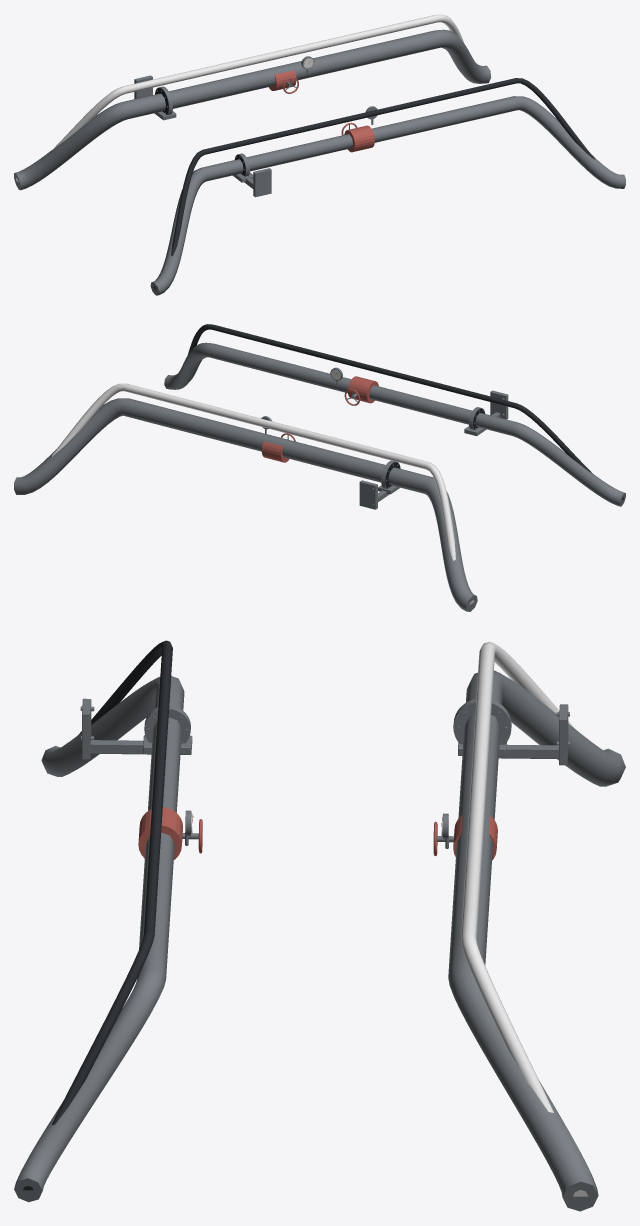
File: BD_T02_UpperProcessLines.fbx
3 renders of one model, top to bottom at view 1: azimuth 30°, elevation 25°; view 2: azimuth 150°, elevation 25°; view 3: azimuth 270°, elevation 25°, orthographic. The views are drawn at different scales.
Visible parts, largest first — view 1: BD_T02_UpperProcessLines; view 2: BD_T02_UpperProcessLines; view 3: BD_T02_UpperProcessLines.
Boxes of the visible parts, x1,y1,x2,y2 form: BD_T02_UpperProcessLines: (14, 14, 625, 295); BD_T02_UpperProcessLines: (14, 324, 625, 611); BD_T02_UpperProcessLines: (14, 640, 625, 1211).
Bounding box in the file's own units: 858 × 189 × 505.
